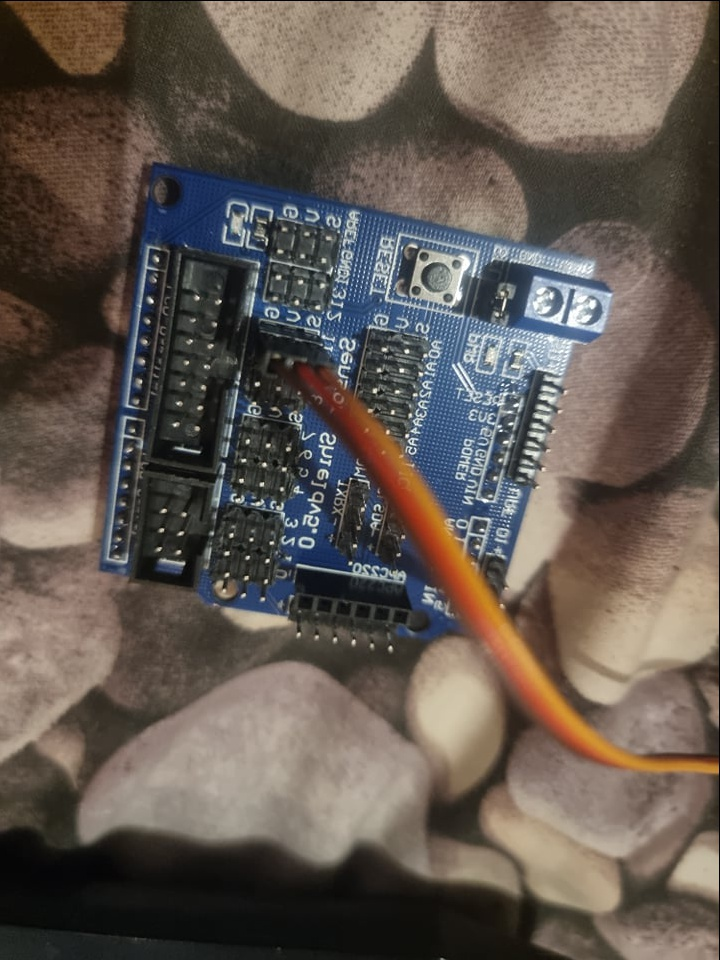5V EXPANSION: (96, 167, 617, 656)
